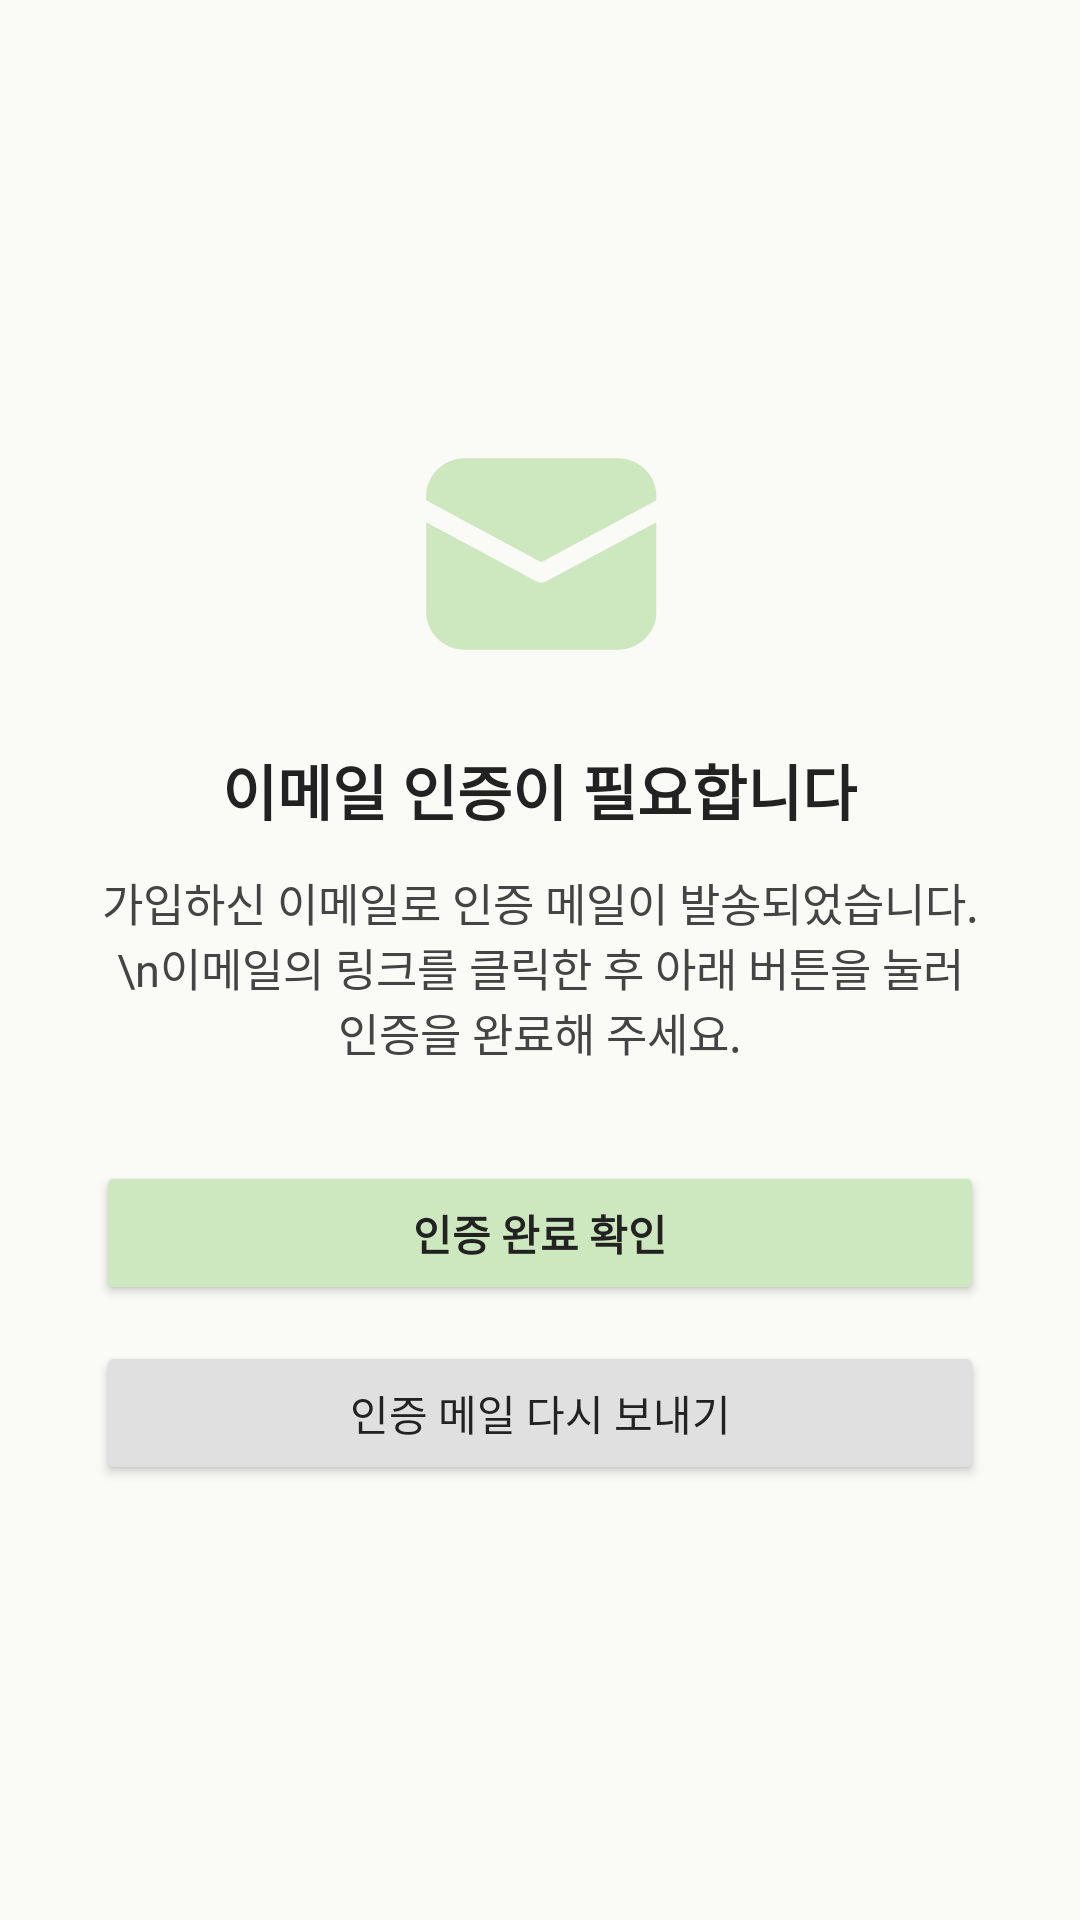

Where icons sit on this 1080px x 1920px app screen, as (x1, y1, x2, y2):
email: (426, 458, 656, 650)
